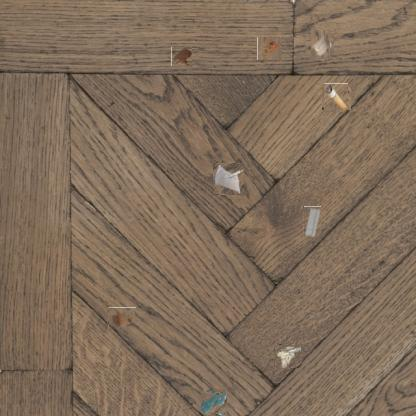dirty: (212, 164, 244, 194), (323, 85, 350, 111), (274, 344, 302, 368), (108, 307, 136, 330), (308, 32, 332, 56), (303, 206, 321, 237), (257, 37, 281, 60)
liquid: (202, 390, 226, 414), (171, 46, 192, 66)
